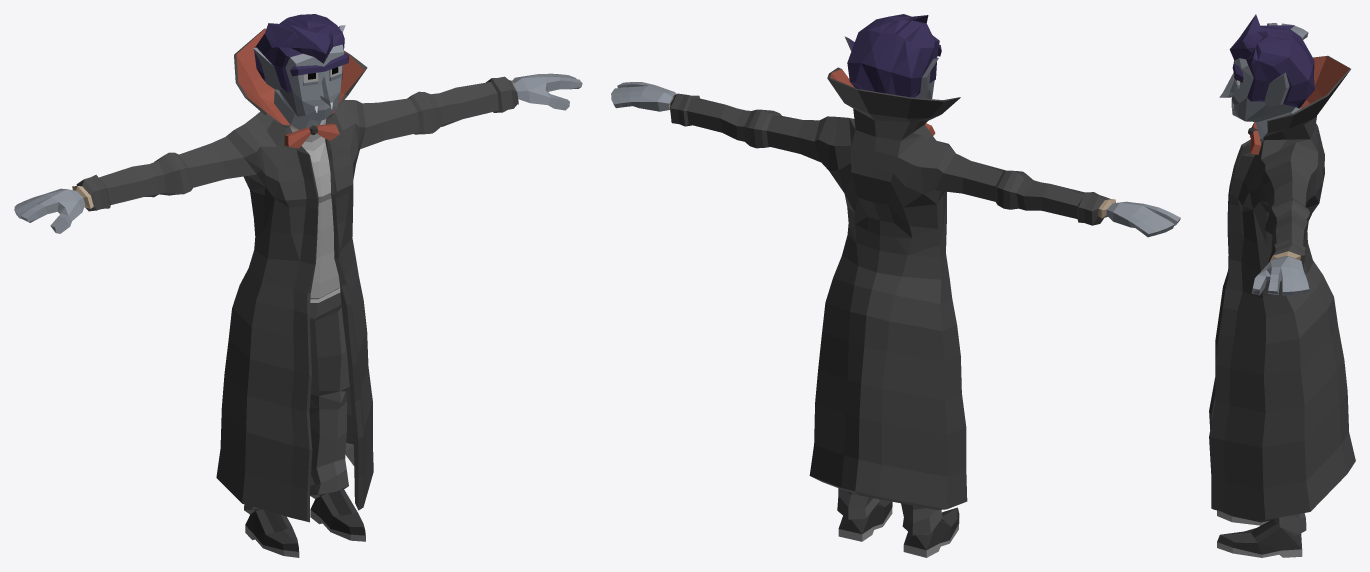
The model's file is Low_Poly_Vampire_Free.glb.
3 views of the same model, side by side, from view 1: azimuth 30°, elevation 25°; view 2: azimuth 150°, elevation 25°; view 3: azimuth 270°, elevation 25° (orthographic).
Visible parts, largest first — view 1: unnamed; view 2: unnamed; view 3: unnamed.
Boxes of the visible parts, x1,y1,x2,y2 form: unnamed: (14, 14, 582, 557); unnamed: (611, 14, 1180, 557); unnamed: (1209, 14, 1355, 557).
Bounding box in the file's own units: 2.06 × 1.83 × 0.4775.
Materials: 1 (1 with a texture image).
